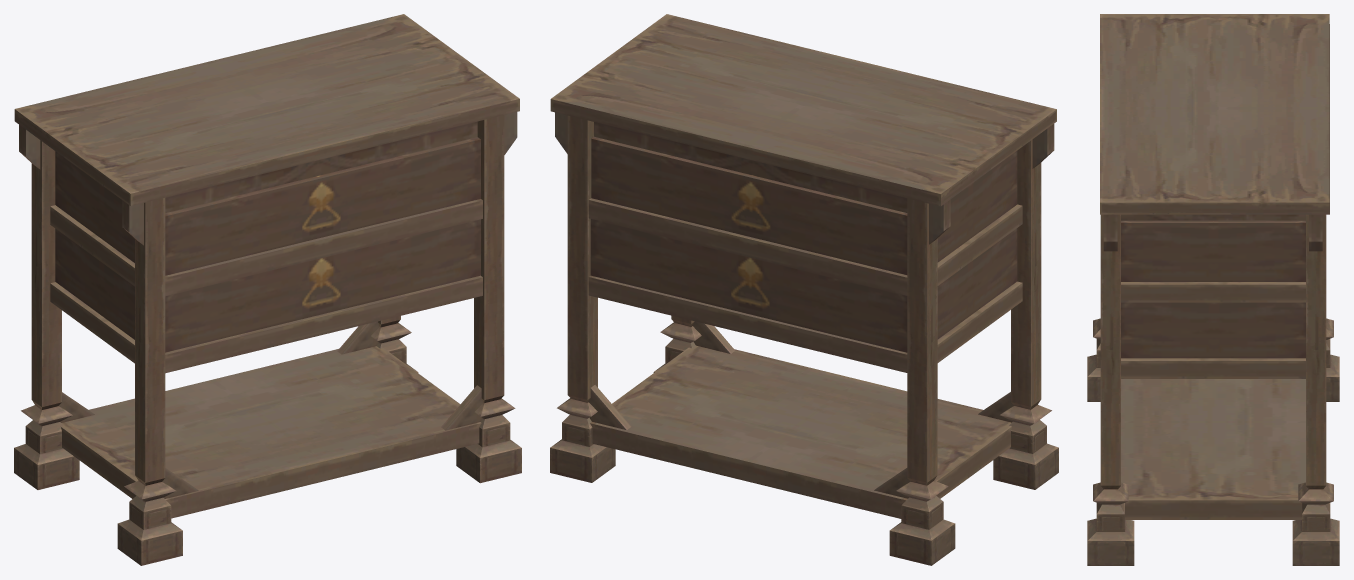
The model's file is Homeworld_Interior_Xm_Cabinet_Prop_Molingguizi_01_Lod0.fbx.
3 renders of one model, left to right at view 1: azimuth 30°, elevation 25°; view 2: azimuth 150°, elevation 25°; view 3: azimuth 270°, elevation 25°, orthographic.
Parts seen in each view (by area): view 1: Area_Xm_Prop_ARC_Molingguizi_01_Lod0; view 2: Area_Xm_Prop_ARC_Molingguizi_01_Lod0; view 3: Area_Xm_Prop_ARC_Molingguizi_01_Lod0.
Boxes of the visible parts, box(x1,y1,x2,y2) form: Area_Xm_Prop_ARC_Molingguizi_01_Lod0: box(14, 14, 521, 565); Area_Xm_Prop_ARC_Molingguizi_01_Lod0: box(550, 14, 1058, 565); Area_Xm_Prop_ARC_Molingguizi_01_Lod0: box(1087, 14, 1339, 565).
Bounding box in the file's own units: 1.01 × 0.9158 × 0.5722.
Materials: 1 (1 with a texture image).
